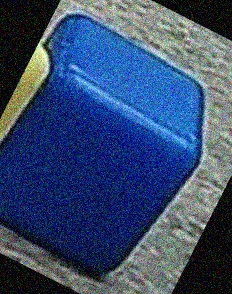blue_cube: (1, 22, 213, 286)
